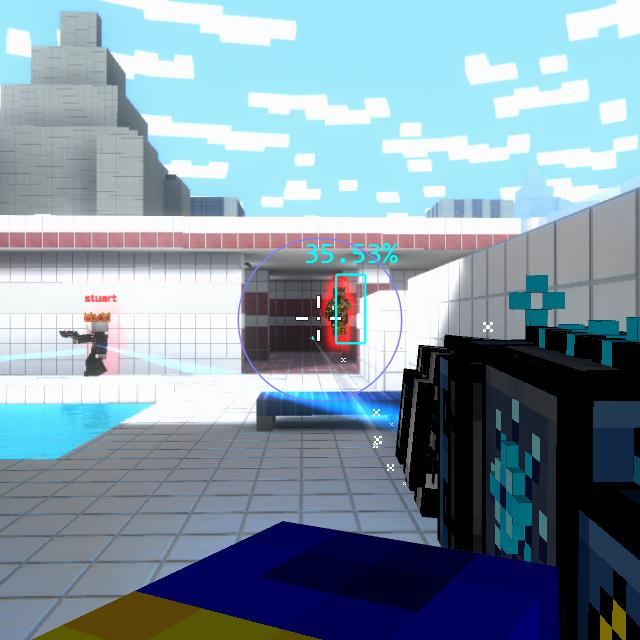Enemy: (73, 315, 110, 376), (325, 287, 353, 335)
